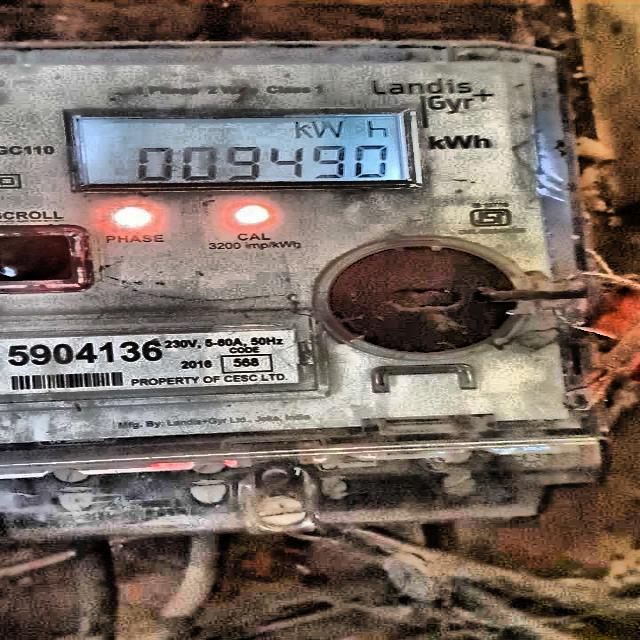Digital: (2, 47, 640, 538)
Reading: (116, 144, 394, 181)
Serial No.: (3, 337, 166, 367)
